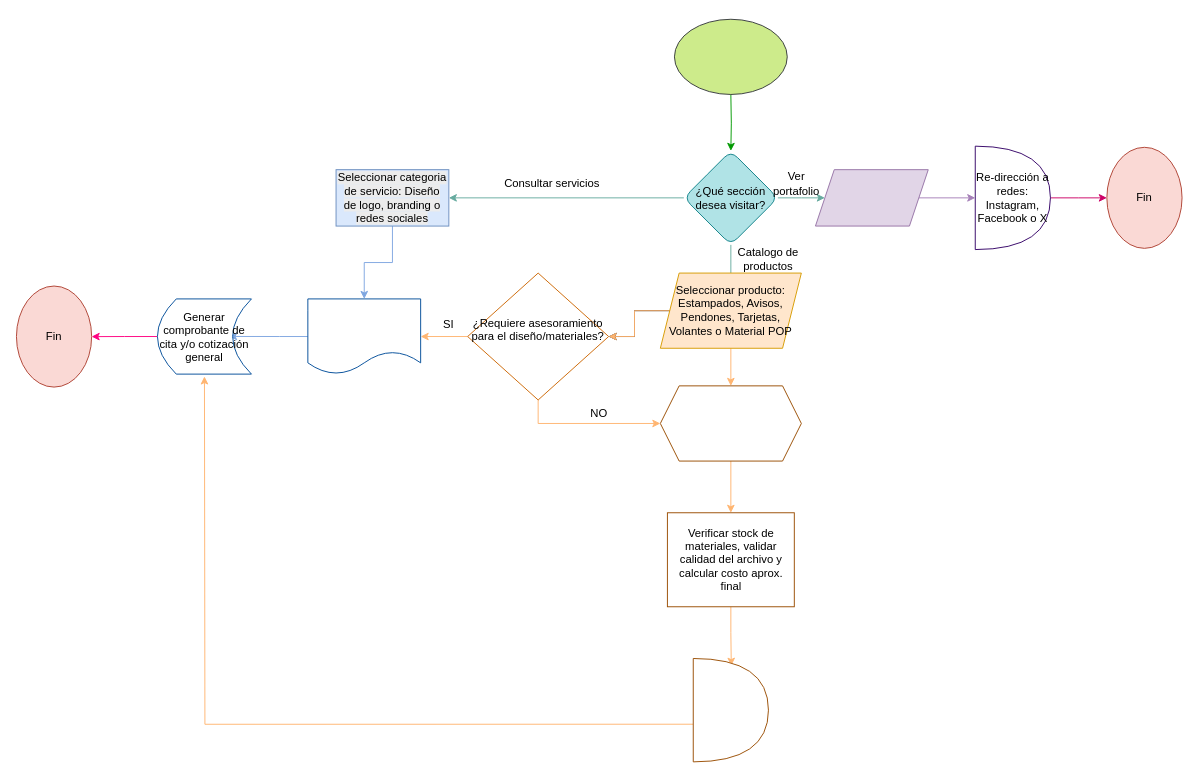
Image size: 1199x778. Some labels were removed from this diagram. Each missing label, with the centre of its shape:
"Adjuntar archivo de diseño, logotipo o especificaciones de medidas y/o colores" goes at point 730,423.
"Diligenciar formulario de agendar cita" goes at point 364,336.
"INICIO" goes at point 730,56.
"Tiempo de producción y entrega" goes at point 730,710.
"Visualizar galería de trabajos realizados" goes at point 871,197.
